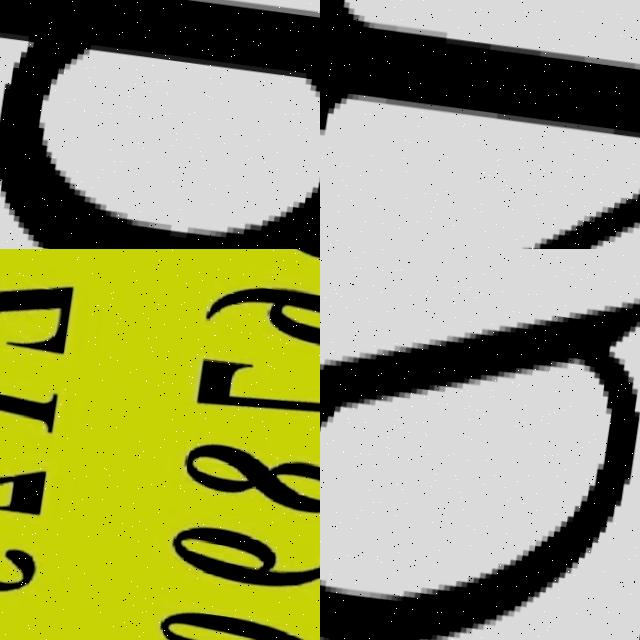0: (115, 580, 320, 640)
1: (0, 349, 84, 449)
2: (0, 425, 67, 530)
3: (0, 503, 57, 611)
6: (176, 257, 320, 370)
7: (165, 334, 320, 455)
8: (147, 422, 320, 532)
9: (133, 499, 320, 610)
B: (320, 305, 640, 640)
